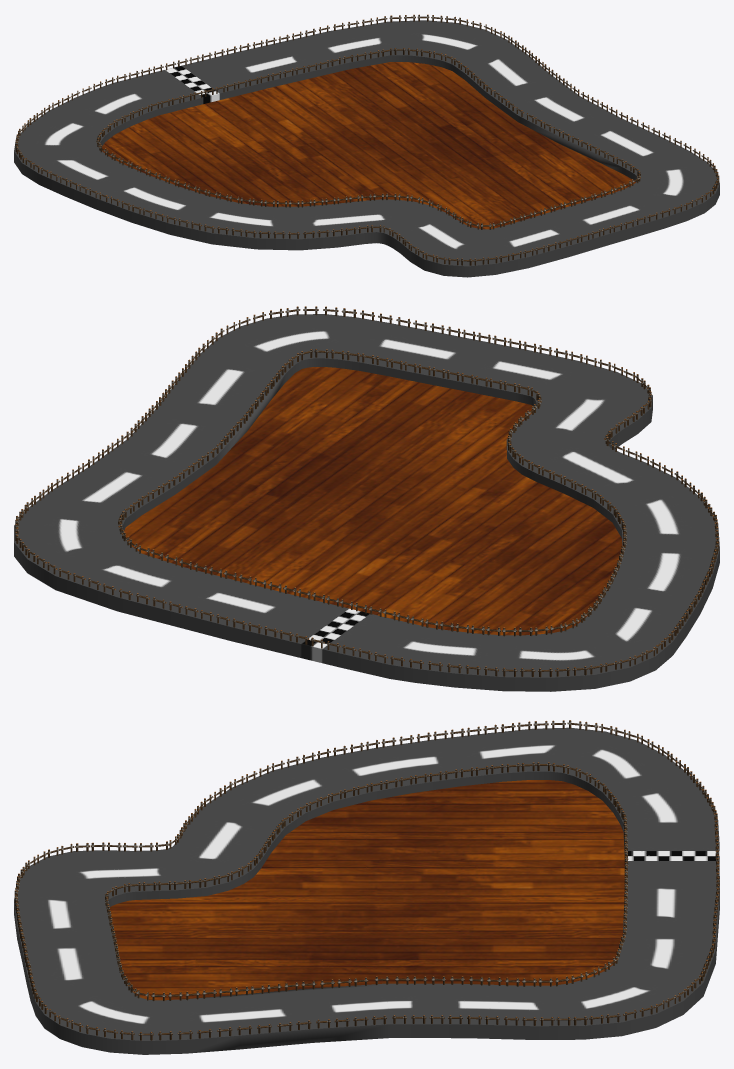
File: terrain.FBX
The picture shows the model from 3 angles, top to bottom: view 1: azimuth 30°, elevation 25°; view 2: azimuth 150°, elevation 25°; view 3: azimuth 270°, elevation 25°; orthographic projection. The views are drawn at different scales.
Visible parts, largest first — view 1: Line001, Plane002, Object001, Guard_Inner; view 2: Line001, Plane002, Object001, Guard_Inner; view 3: Line001, Plane002, Object001, Guard_Inner.
Part boxes in pixels (x1,y1,x2,y2): Line001: (14,20,719,277); Plane002: (102,62,636,229); Object001: (15,14,719,265); Guard_Inner: (96,48,640,229); Line001: (14,314,719,691); Plane002: (124,367,622,635); Object001: (15,306,718,677); Guard_Inner: (118,349,626,636); Line001: (14,727,719,1054); Plane002: (110,780,624,1000); Object001: (14,720,719,1040); Guard_Inner: (105,762,628,1000).
Size of what is drawn, in the model's own units: 1841 by 1752 by 59.81.
